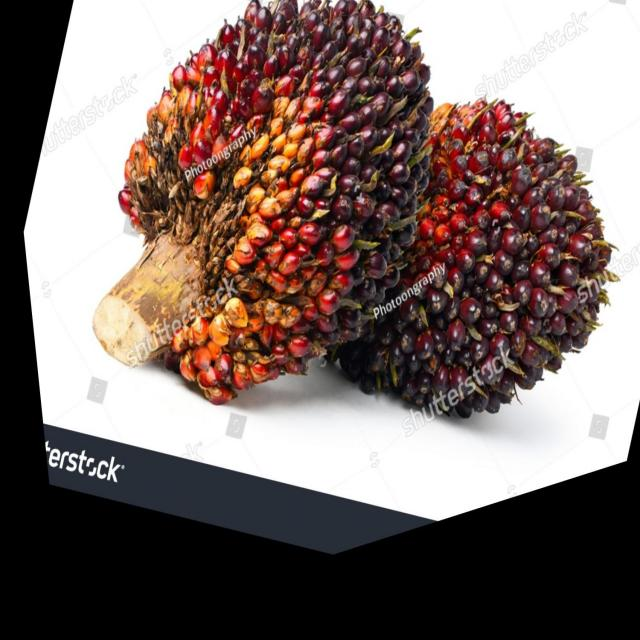Ripefruit: (41, 0, 486, 520), (321, 56, 640, 545)
